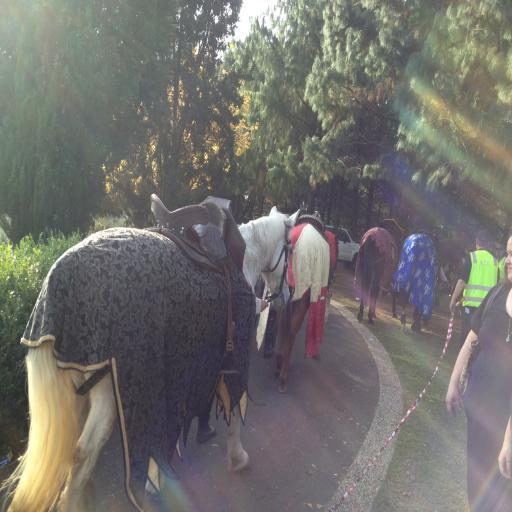horse: (2, 202, 302, 512), (269, 222, 341, 396), (398, 236, 464, 330), (356, 221, 398, 327)
